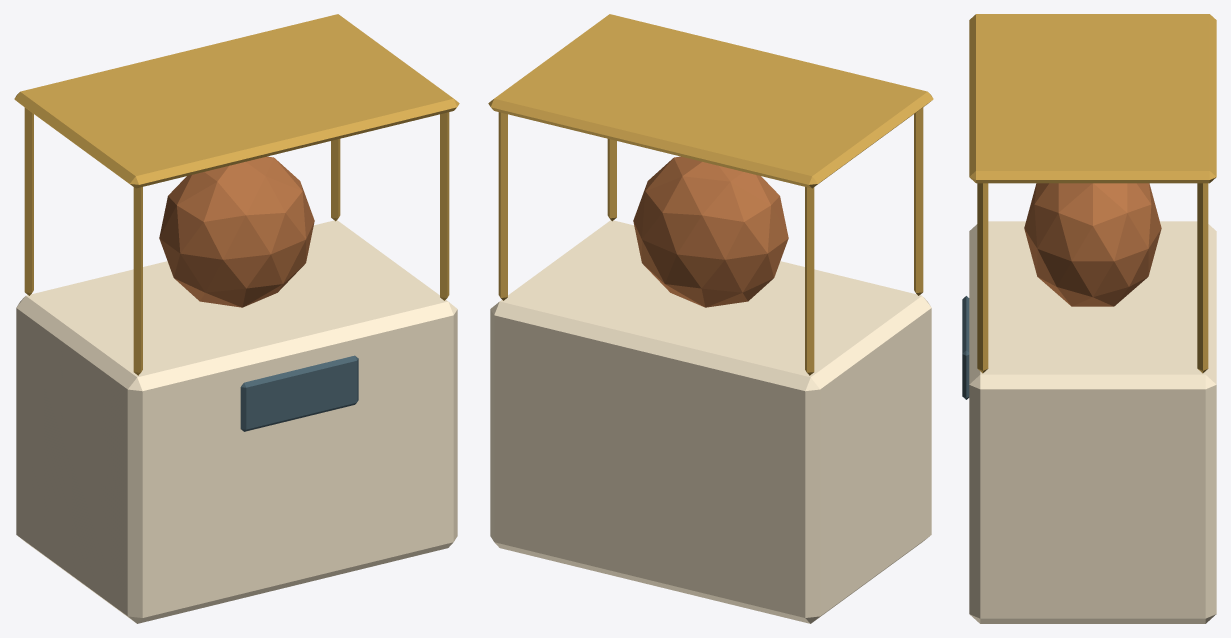
File: exhibit-case.glb
3 views of the same model, side by side, from view 1: azimuth 30°, elevation 25°; view 2: azimuth 150°, elevation 25°; view 3: azimuth 270°, elevation 25° (orthographic).
Visible parts, largest first — view 1: display-plinth, display-top, exhibit, exhibit-caption, display-frame, display-frame.002, display-frame.001, display-frame.003; view 2: display-plinth, display-top, exhibit, display-frame.001, display-frame.003, display-frame, display-frame.002; view 3: display-plinth, display-top, exhibit, display-frame.002, display-frame.003, exhibit-caption.
Part boxes in pixels (x1,y1,x2,y2): display-plinth: (16, 220, 457, 623); display-top: (14, 14, 459, 188); exhibit: (159, 156, 314, 307); exhibit-caption: (240, 355, 358, 431); display-frame: (133, 187, 142, 375); display-frame.002: (440, 112, 449, 300); display-frame.001: (24, 107, 33, 295); display-frame.003: (331, 139, 340, 221); display-plinth: (490, 220, 931, 623); display-top: (488, 14, 933, 188); exhibit: (633, 156, 788, 307); display-frame.001: (805, 187, 814, 375); display-frame.003: (498, 112, 507, 300); display-frame: (914, 107, 923, 295); display-frame.002: (607, 139, 616, 221); display-plinth: (969, 221, 1216, 623); display-top: (969, 14, 1216, 183); exhibit: (1024, 183, 1161, 306); display-frame.002: (977, 183, 988, 373); display-frame.003: (1197, 183, 1208, 373); exhibit-caption: (962, 296, 969, 399).
Size of the model in its own units: 1.4 by 1.82 by 0.925.
